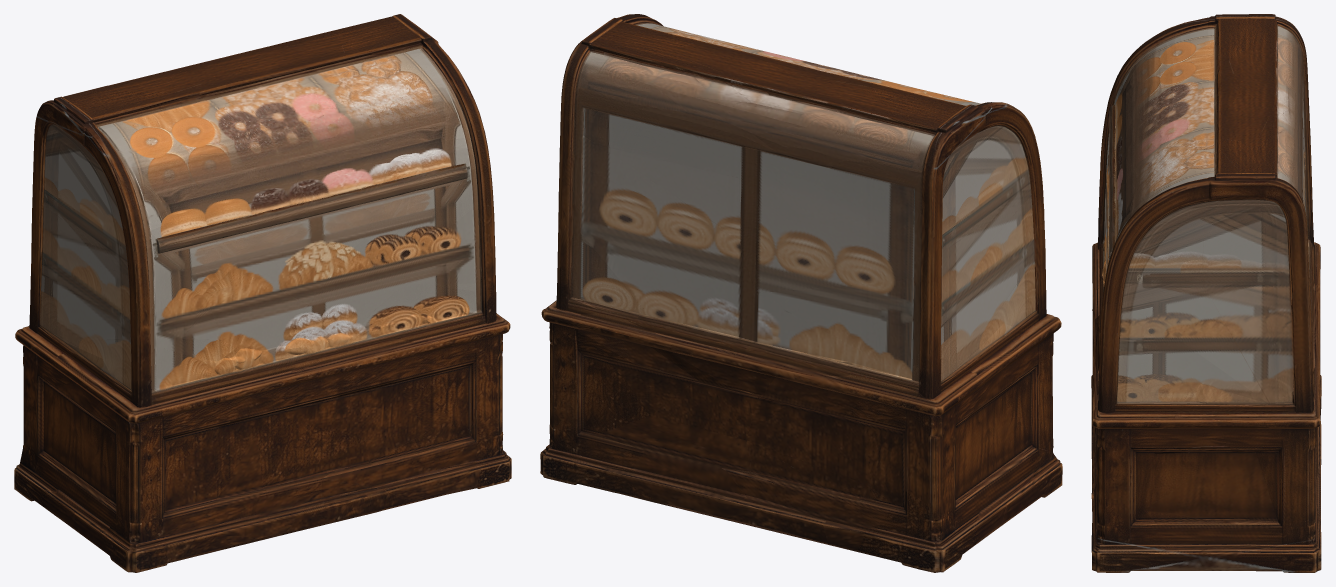
The model's file is display.glb.
The picture shows the model from 3 angles, left to right: view 1: azimuth 30°, elevation 25°; view 2: azimuth 150°, elevation 25°; view 3: azimuth 270°, elevation 25°; orthographic projection. The views are drawn at different scales.
Parts seen in each view (by area): view 1: Mesh_0; view 2: Mesh_0; view 3: Mesh_0.
Boxes of the visible parts, <box> form: Mesh_0: <box>14,14,511,572</box>; Mesh_0: <box>540,14,1062,572</box>; Mesh_0: <box>1091,14,1321,572</box>.
Bounding box in the file's own units: 1.9 × 1.9 × 1.02.
Materials: 1 (1 with a texture image).
